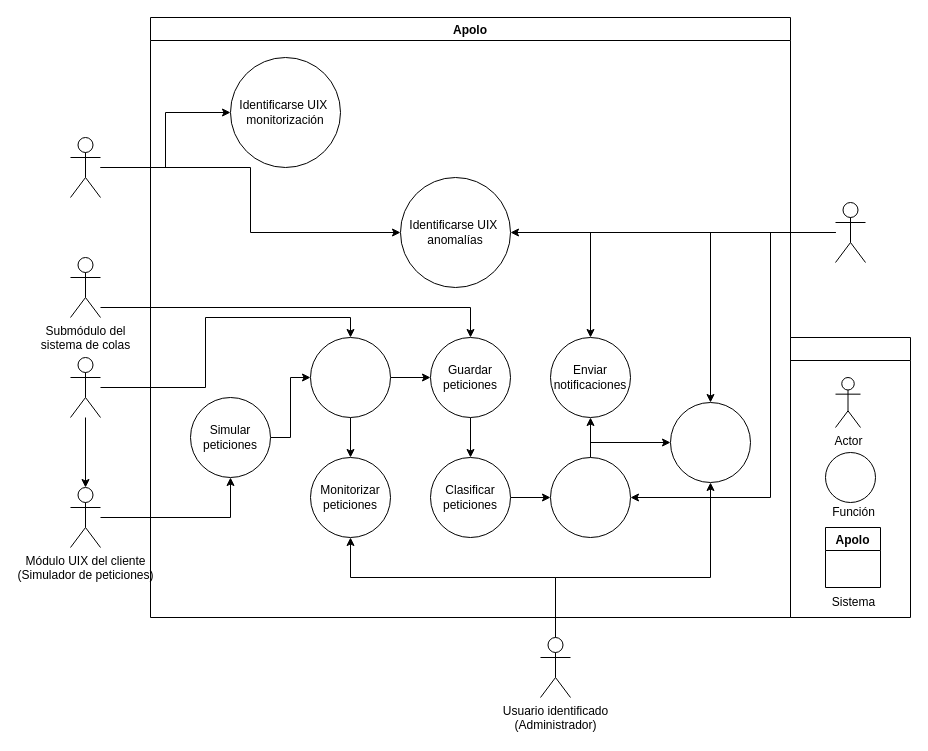
Image size: 928x751. Some labels were removed from this diagram. The shapes that lost their labels are listed below. From the top down, each one's box as (x1, y1, x2, y2) in pixels, then its label:
(70, 136, 100, 198): Usuario no identificado
(834, 202, 866, 262): Submódulo de gestión de anomalías
(70, 356, 100, 418): Módulo gestión de peticiones
(310, 336, 390, 418): Tratar las peticiones
(670, 402, 750, 482): Mostrar clasificaciones
(550, 456, 630, 538): Guardar clasificaciones
(790, 336, 910, 618): Leyenda
